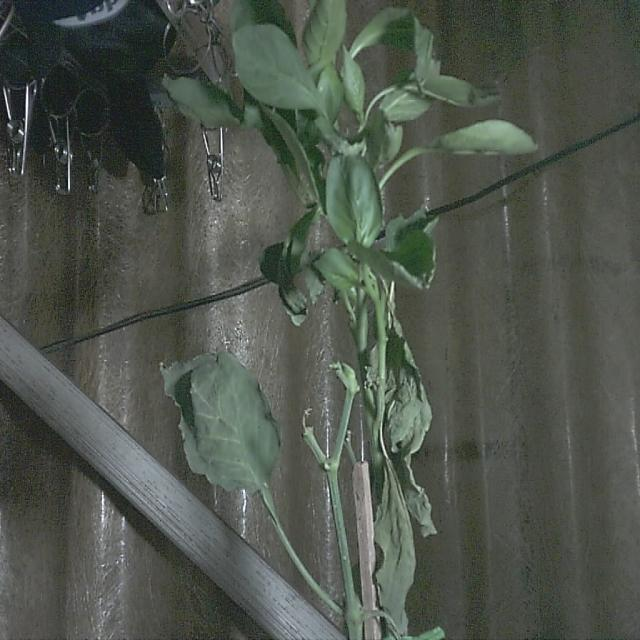Leaf: (158, 348, 281, 492), (230, 21, 320, 110), (323, 152, 383, 250)
